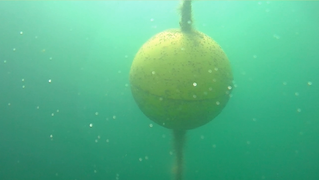buoy: (128, 27, 234, 130)
